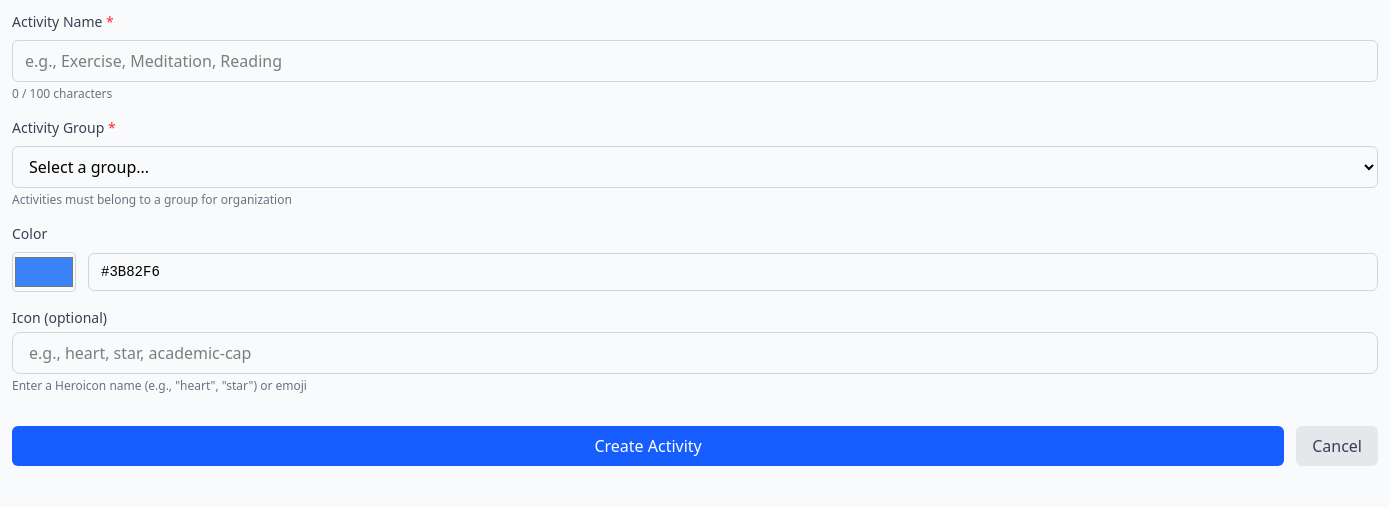
ActivityForm › Validation › should show error when no group is selected
The width and height of the screenshot is (1390, 507).
Type "Test Activity" into the field with id "activity-name" at {"x": 695, "y": 61}, box [12, 40, 1378, 82]
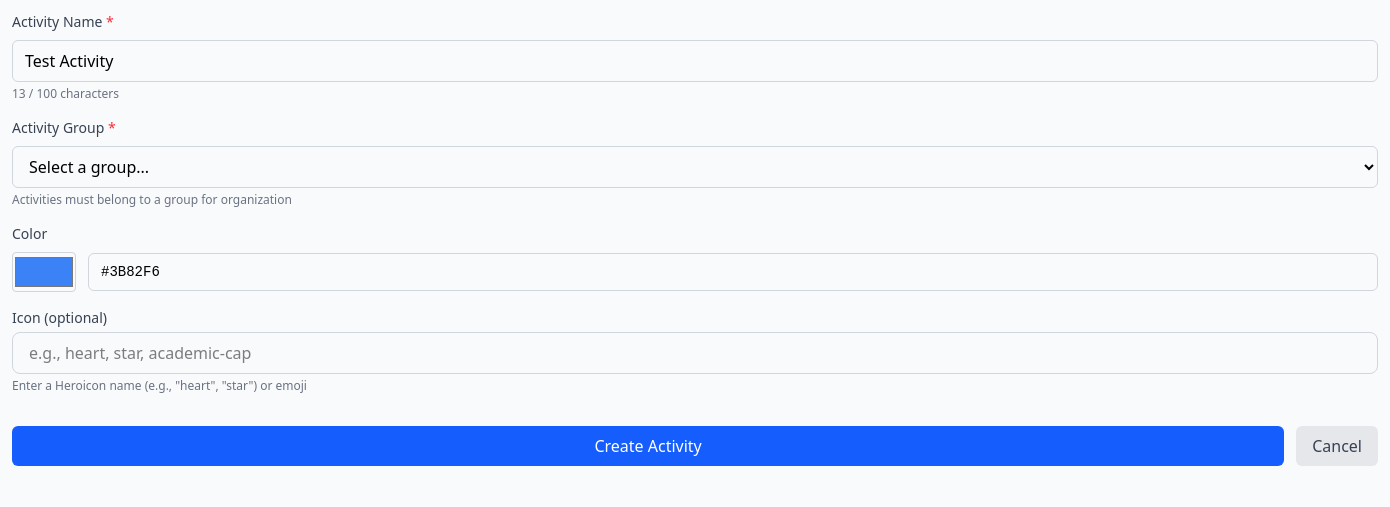
Submit the form
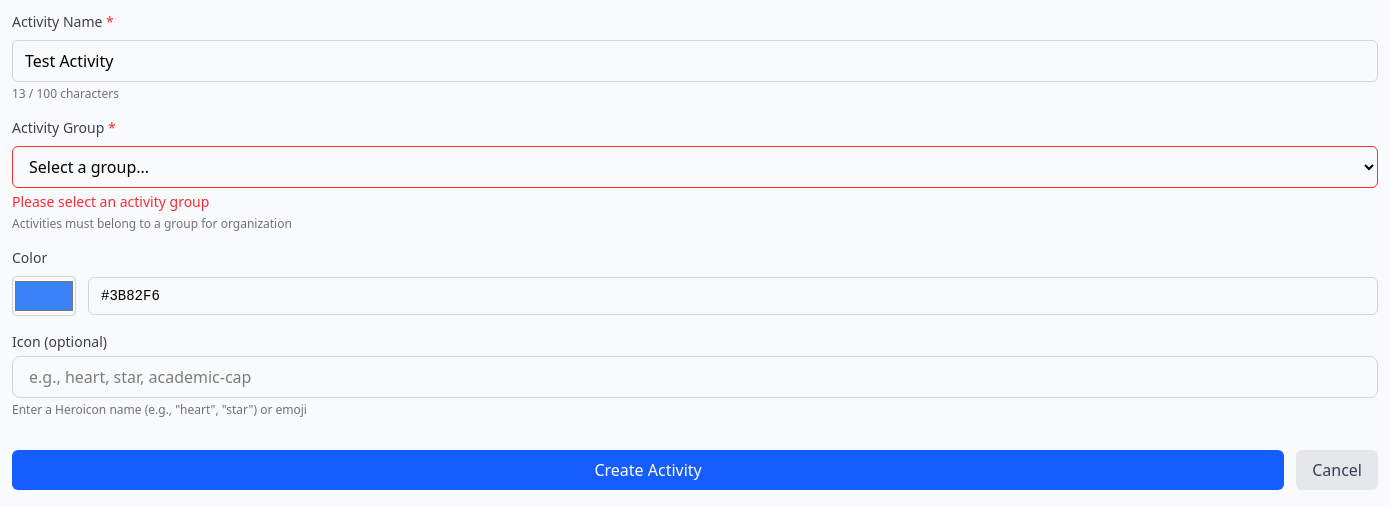
Expected: the text "Please select an activity group" is shown, [12, 192, 209, 211]
